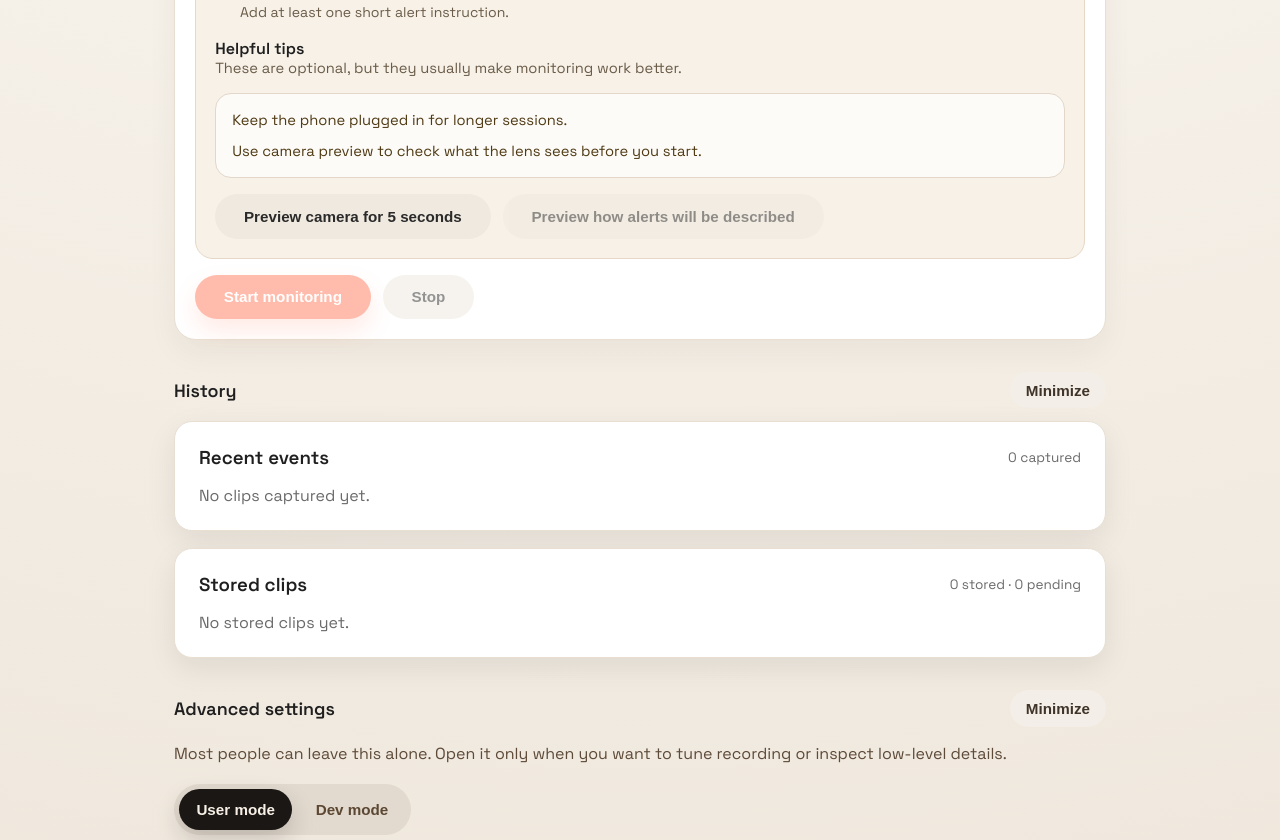
Test: App › lets secondary panels be minimized from their section header
(page scrolled)
Click the button with aria-label "history" at (1058, 390), box [1010, 372, 1106, 408]
(page scrolled)
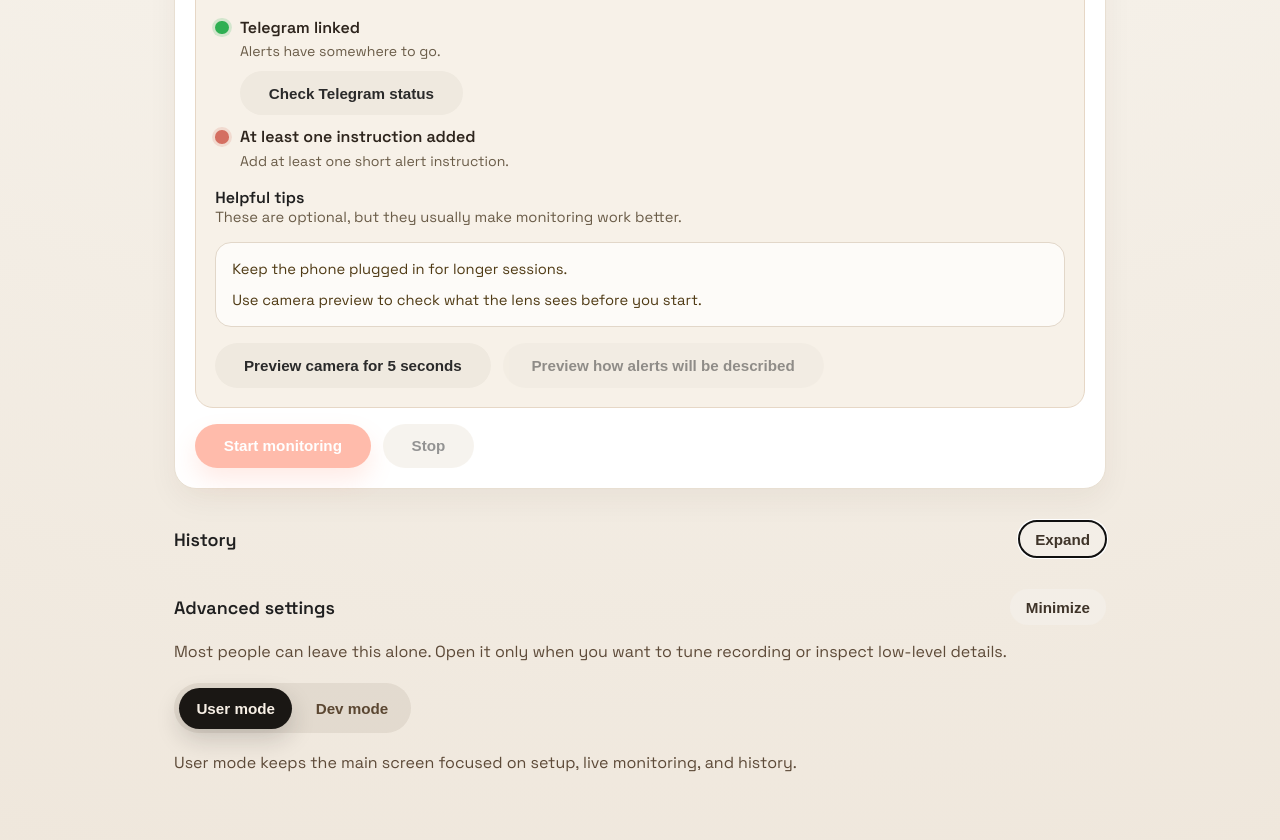
Result: the button with aria-label "history" is collapsed at [1019, 521, 1106, 557]
Result: the text "No clips captured yet" is gone
